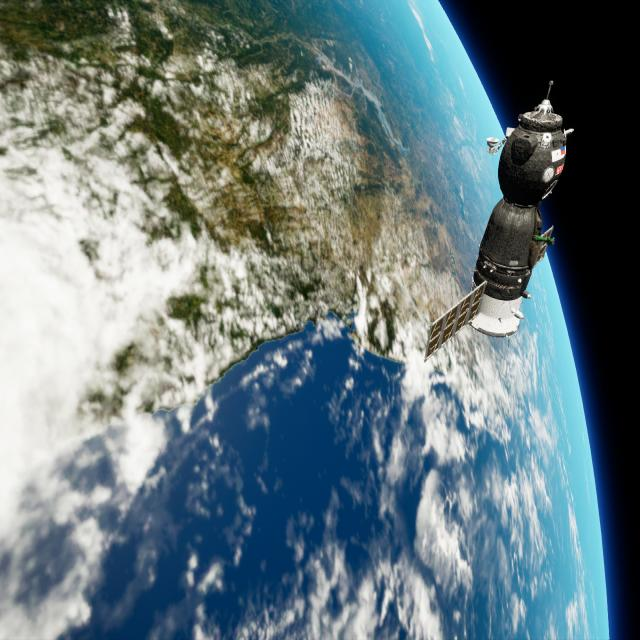Satellites revolving around earth: (421, 77, 576, 365)
